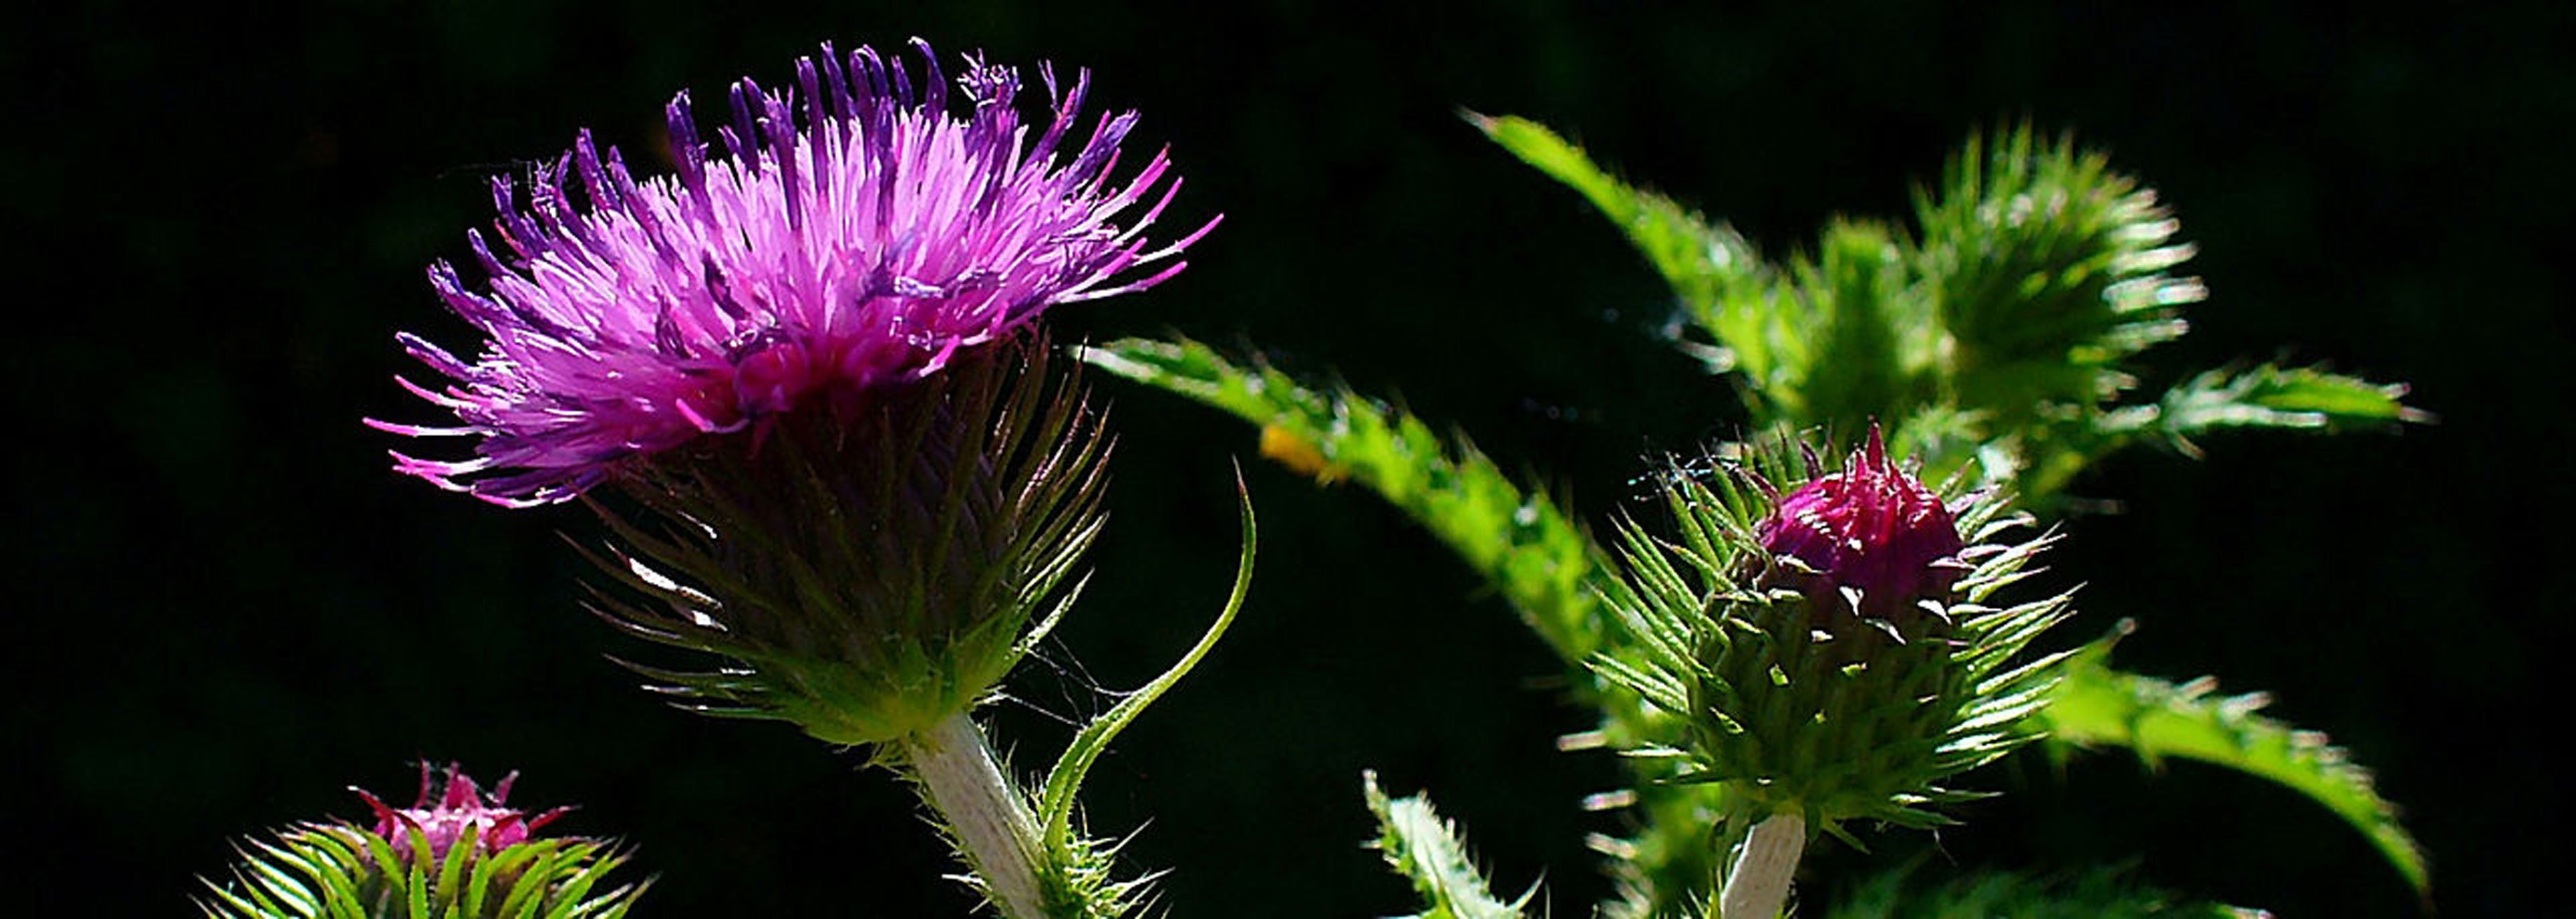thistle: (360, 66, 1130, 720), (1566, 408, 2073, 830)
